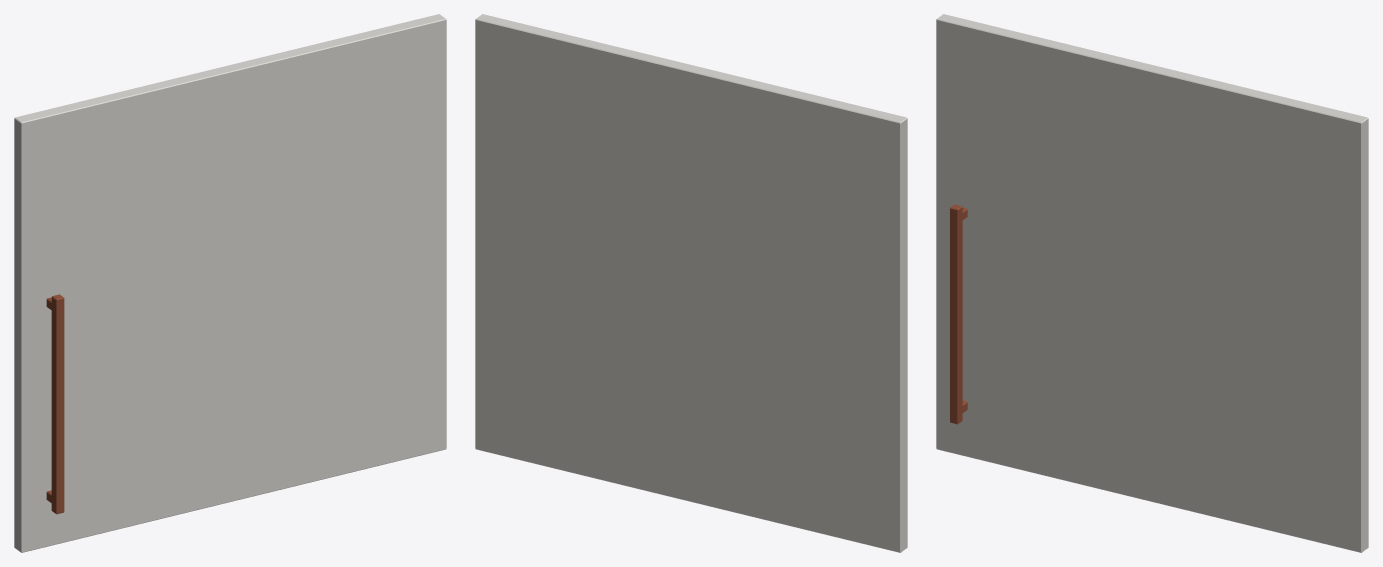
The model's file is l_kitchen_long_fridge_door.glb.
The picture shows the model from 3 angles, left to right: view 1: azimuth 30°, elevation 25°; view 2: azimuth 150°, elevation 25°; view 3: azimuth 330°, elevation 25°; orthographic projection.
Visible parts, largest first — view 1: l_kitchen_long_fridge_door; view 2: l_kitchen_long_fridge_door; view 3: l_kitchen_long_fridge_door.
Boxes of the visible parts, left/top/right/bottom form: l_kitchen_long_fridge_door: left=14, top=14, right=446, bottom=552; l_kitchen_long_fridge_door: left=475, top=14, right=907, bottom=552; l_kitchen_long_fridge_door: left=936, top=14, right=1368, bottom=552.
Size of the model in its own units: 0.597 by 0.577 by 0.044.
